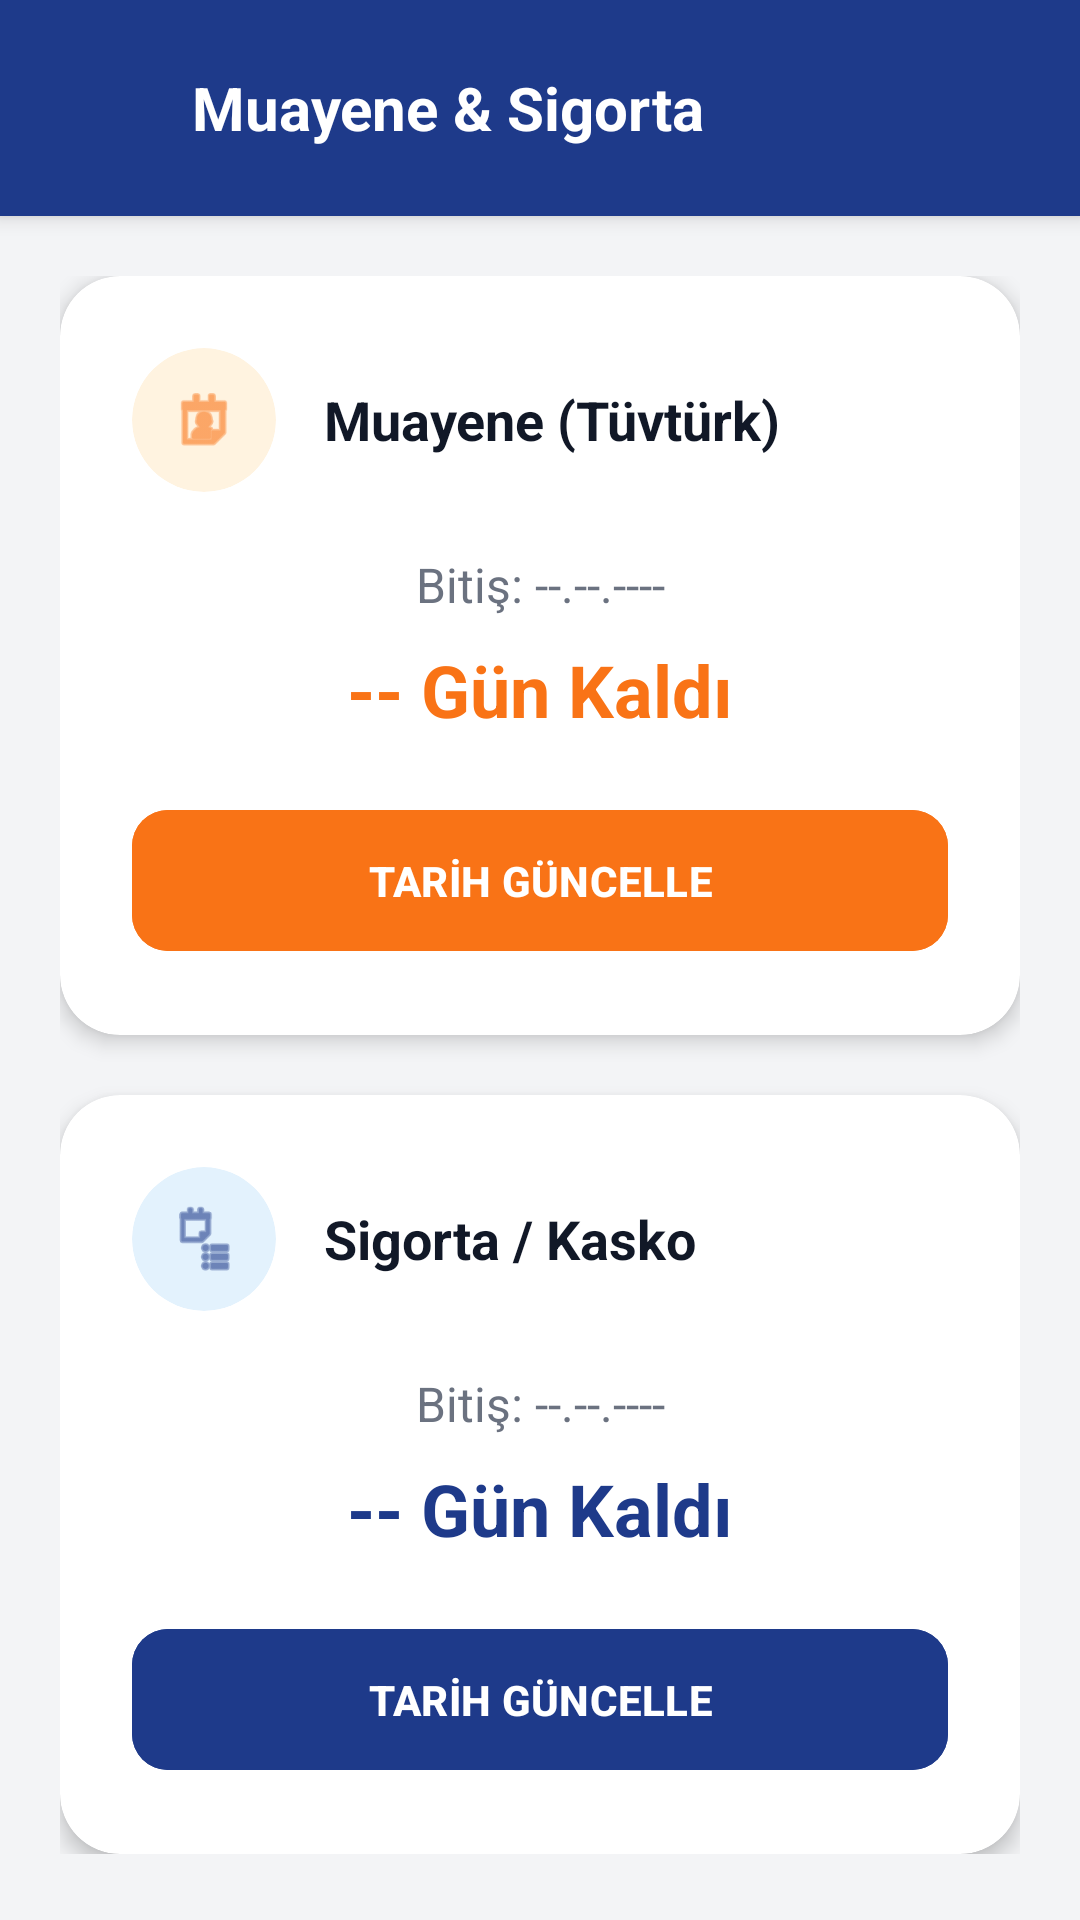

Icon click points for this 1080px x 1920px phone screenshot, format (x=x, y=y):
agenda: (x=204, y=1239)
calendar: (x=204, y=420)
